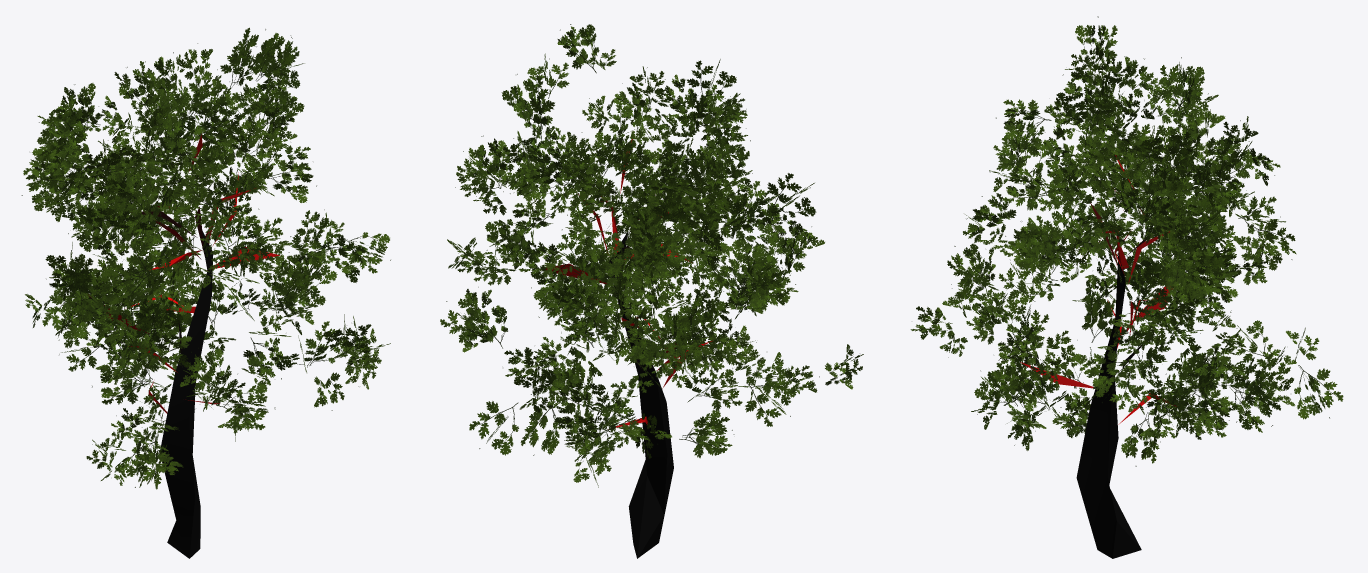
The model's file is oak5 lod2.FBX.
3 renders of one model, left to right at view 1: azimuth 30°, elevation 25°; view 2: azimuth 150°, elevation 25°; view 3: azimuth 270°, elevation 25°, orthographic. The views are drawn at different scales.
Parts seen in each view (by area): view 1: oak 5_LOD2; view 2: oak 5_LOD2; view 3: oak 5_LOD2.
Part boxes in pixels (left/top/right/bottom): oak 5_LOD2: left=21, top=27, right=390, bottom=558; oak 5_LOD2: left=440, top=24, right=863, bottom=558; oak 5_LOD2: left=910, top=16, right=1343, bottom=558.
Bounding box in the file's own units: 104113 × 135336 × 108243.
